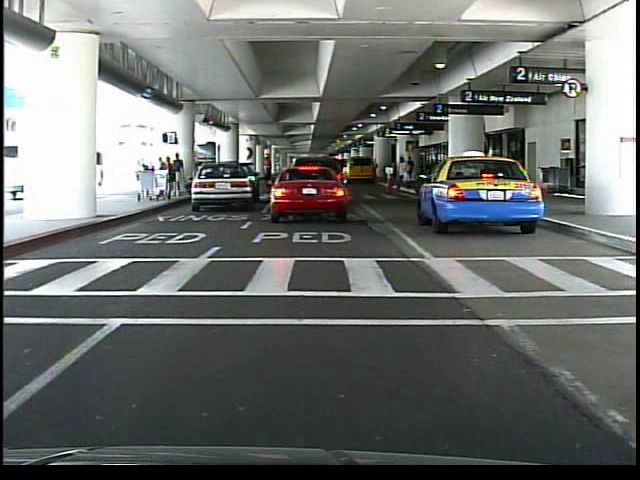person: (328, 156, 342, 202), (175, 152, 188, 198), (395, 155, 409, 192), (264, 156, 277, 189), (313, 166, 324, 202), (408, 155, 415, 185)
